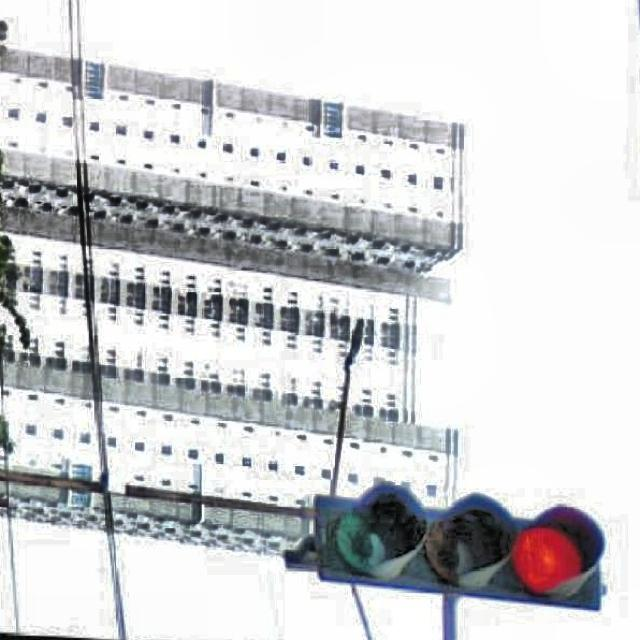red: (322, 488, 603, 596)
